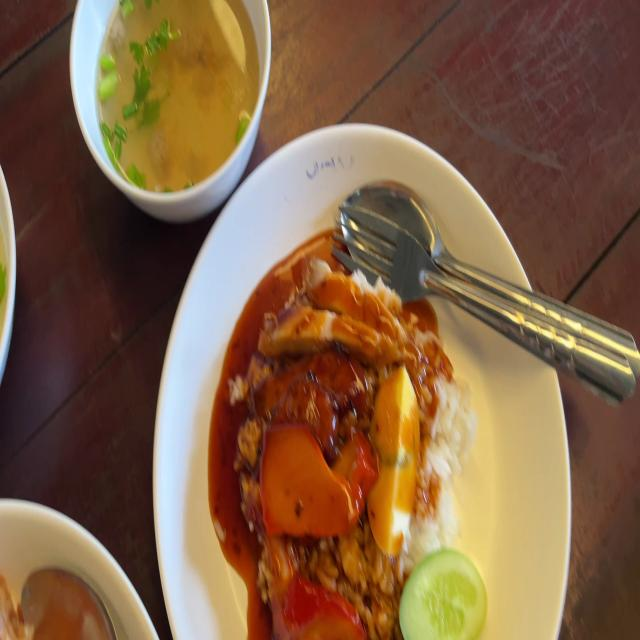red_pork_and_crispy_pork: (367, 362, 422, 554)
stir_fried_basil: (264, 351, 364, 438)
